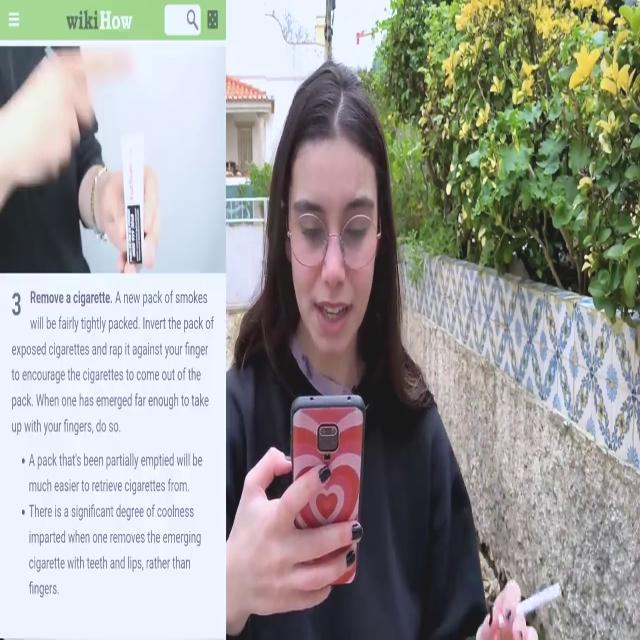Smooking: (515, 557, 567, 621)
